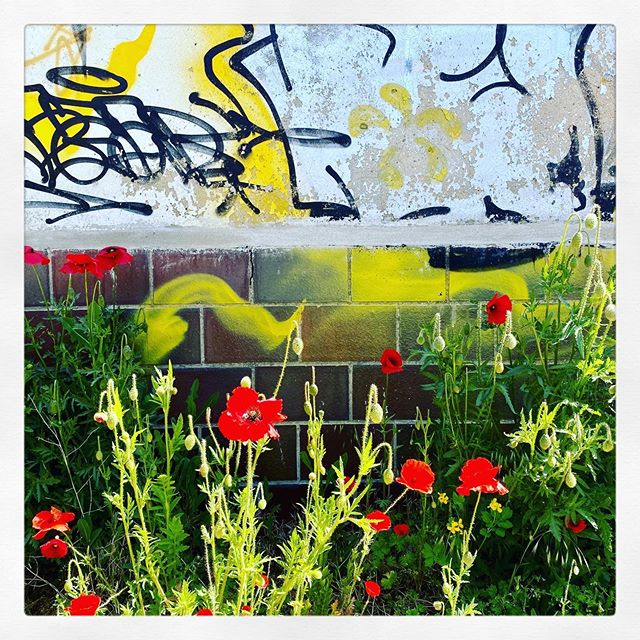flowers: (19, 224, 614, 608)
graffiti: (18, 24, 615, 226)
